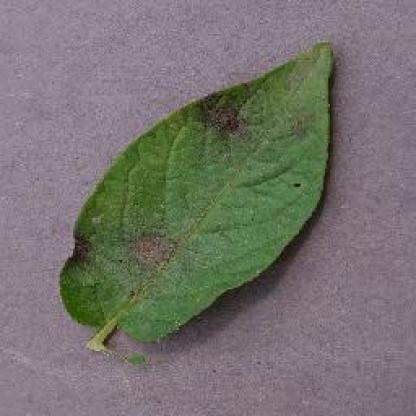bad leaf: (56, 34, 350, 350)
